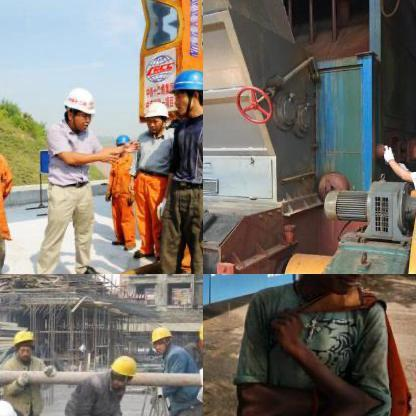Helmet: (281, 274, 392, 294), (59, 80, 95, 132), (167, 65, 202, 116), (108, 350, 138, 388), (140, 98, 170, 132), (10, 325, 34, 359), (148, 322, 172, 352), (112, 130, 130, 152), (0, 397, 17, 415), (195, 318, 202, 348)
